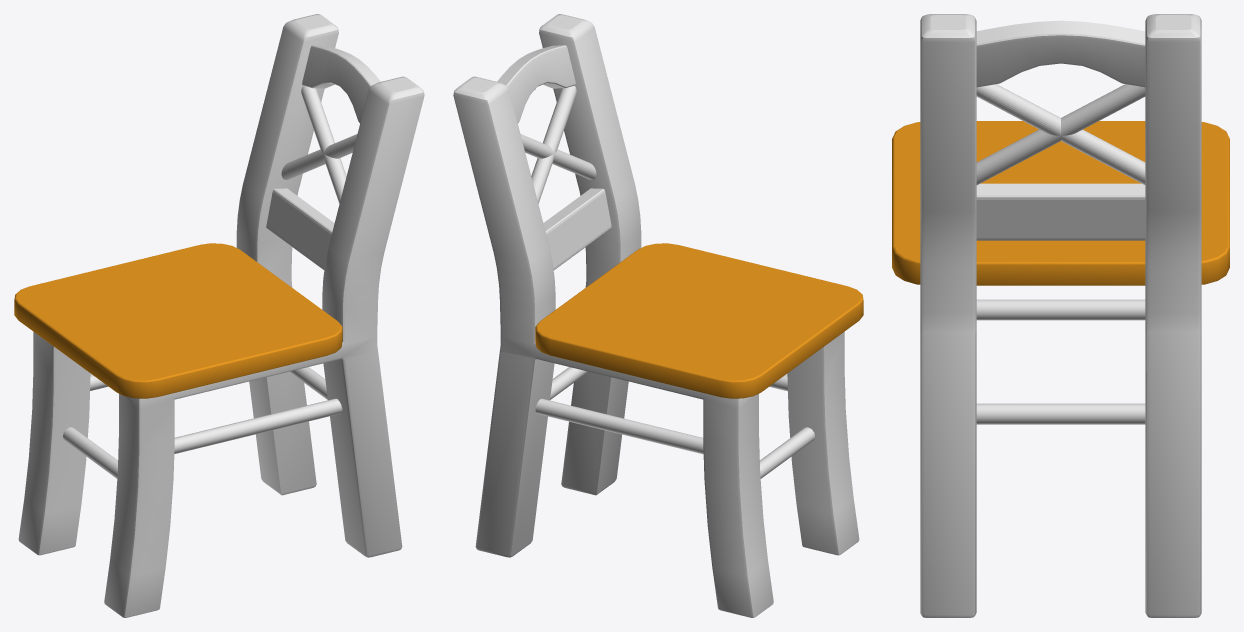
File: Chair.glb
3 renders of one model, left to right at view 1: azimuth 30°, elevation 25°; view 2: azimuth 150°, elevation 25°; view 3: azimuth 270°, elevation 25°, orthographic. The views are drawn at different scales.
Visible parts, largest first — view 1: ChairFrame, Chair Cushion, Chair Horizontal support, Chair Back arch, Chair leg support R, Chair X clamp, Chair leg support F, Chair leg support B; view 2: ChairFrame, Chair Cushion, Chair Horizontal support, Chair Back arch, Chair leg support L, Chair X clamp, Chair leg support F, Chair leg support B; view 3: ChairFrame, Chair Cushion, Chair Horizontal support, Chair Back arch, Chair X clamp, Chair leg support B, Chair leg support F.
Part boxes in pixels (box(x1,y1,x2,y2)): ChairFrame: box(18, 14, 424, 617); Chair Cushion: box(14, 243, 342, 398); Chair Horizontal support: box(266, 188, 334, 269); Chair Back arch: box(302, 45, 380, 123); Chair leg support R: box(174, 398, 342, 453); Chair X clamp: box(281, 85, 357, 203); Chair leg support F: box(63, 427, 117, 478); Chair leg support B: box(289, 367, 327, 399); ChairFrame: box(453, 14, 859, 617); Chair Cushion: box(535, 243, 863, 398); Chair Horizontal support: box(543, 188, 611, 269); Chair Back arch: box(497, 45, 575, 123); Chair leg support L: box(535, 398, 703, 454); Chair X clamp: box(520, 85, 596, 203); Chair leg support F: box(760, 427, 814, 478); Chair leg support B: box(550, 367, 588, 399); ChairFrame: box(920, 14, 1201, 617); Chair Cushion: box(892, 121, 1229, 285); Chair Horizontal support: box(976, 183, 1145, 240); Chair Back arch: box(976, 20, 1145, 87); Chair X clamp: box(976, 84, 1145, 184); Chair leg support B: box(976, 403, 1145, 424); Chair leg support F: box(976, 299, 1145, 320).
Size of the model in its own units: 0.6177 by 0.883 by 0.45.
